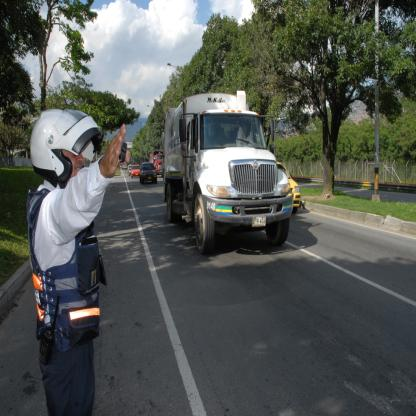Helmet: (25, 113, 98, 189)
